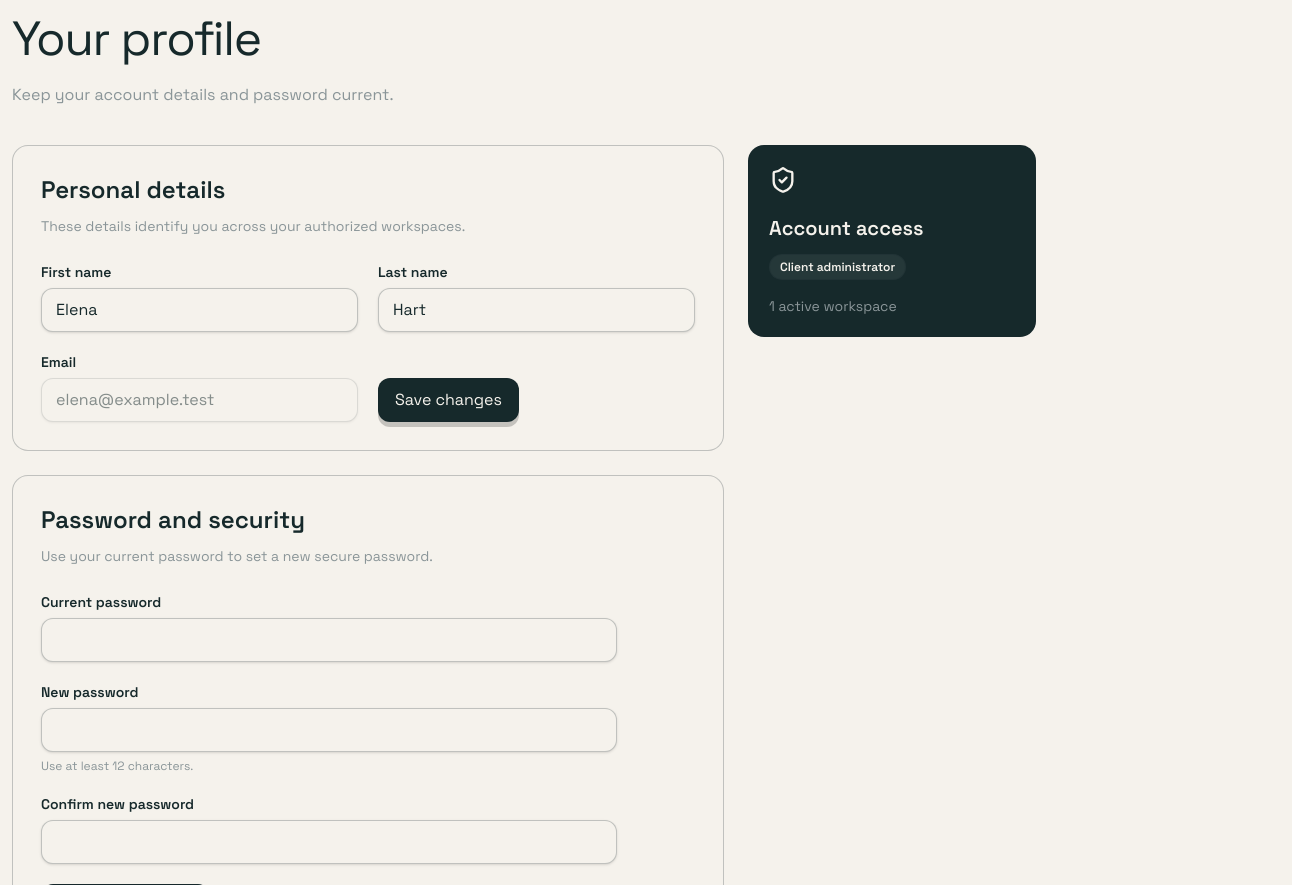
Test: ProfilePage › lets an authenticated platform user update profile details and password
Replace the text in the field labelled "First name" with "Eleni" at coordinates (200, 310), box x1=41 y1=288 x2=358 y2=332
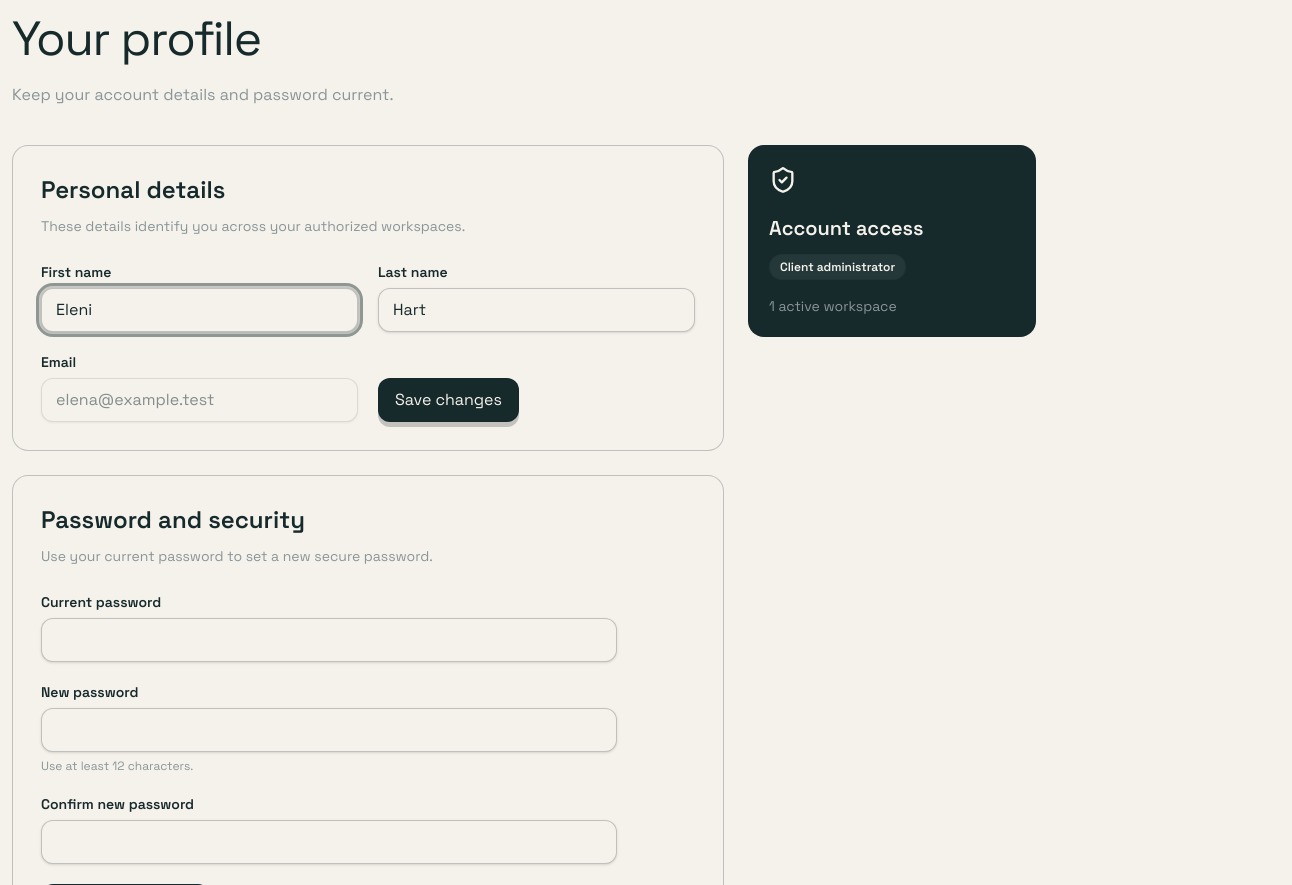
Click the button "Save changes".
click(448, 400)  # box x1=378 y1=378 x2=519 y2=422
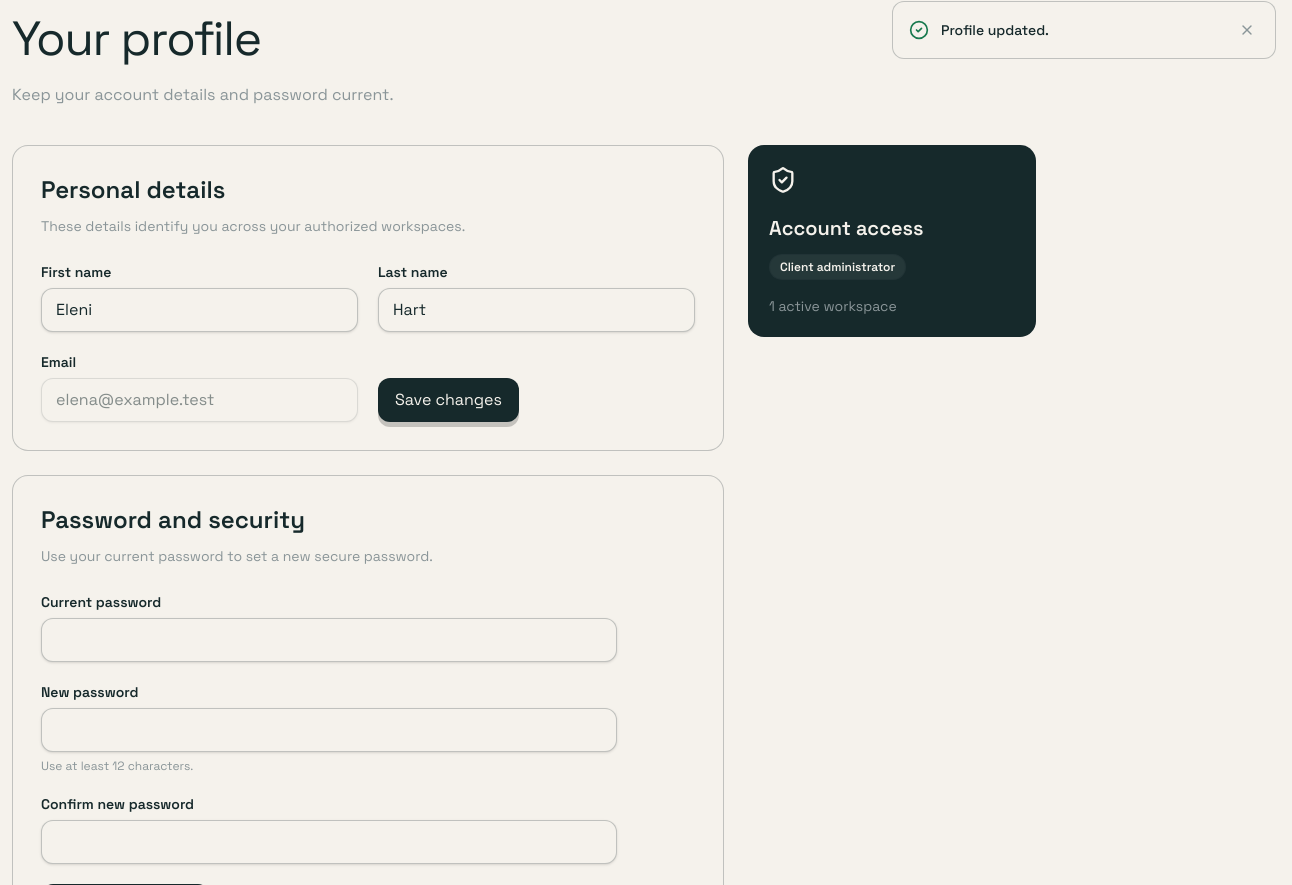
expect the text "Profile updated." is shown: met, box x1=941 y1=21 x2=1049 y2=39
Type "current-password" into the password field labelled "Current password".
click(329, 640); type("current-password")  # box x1=41 y1=618 x2=617 y2=662
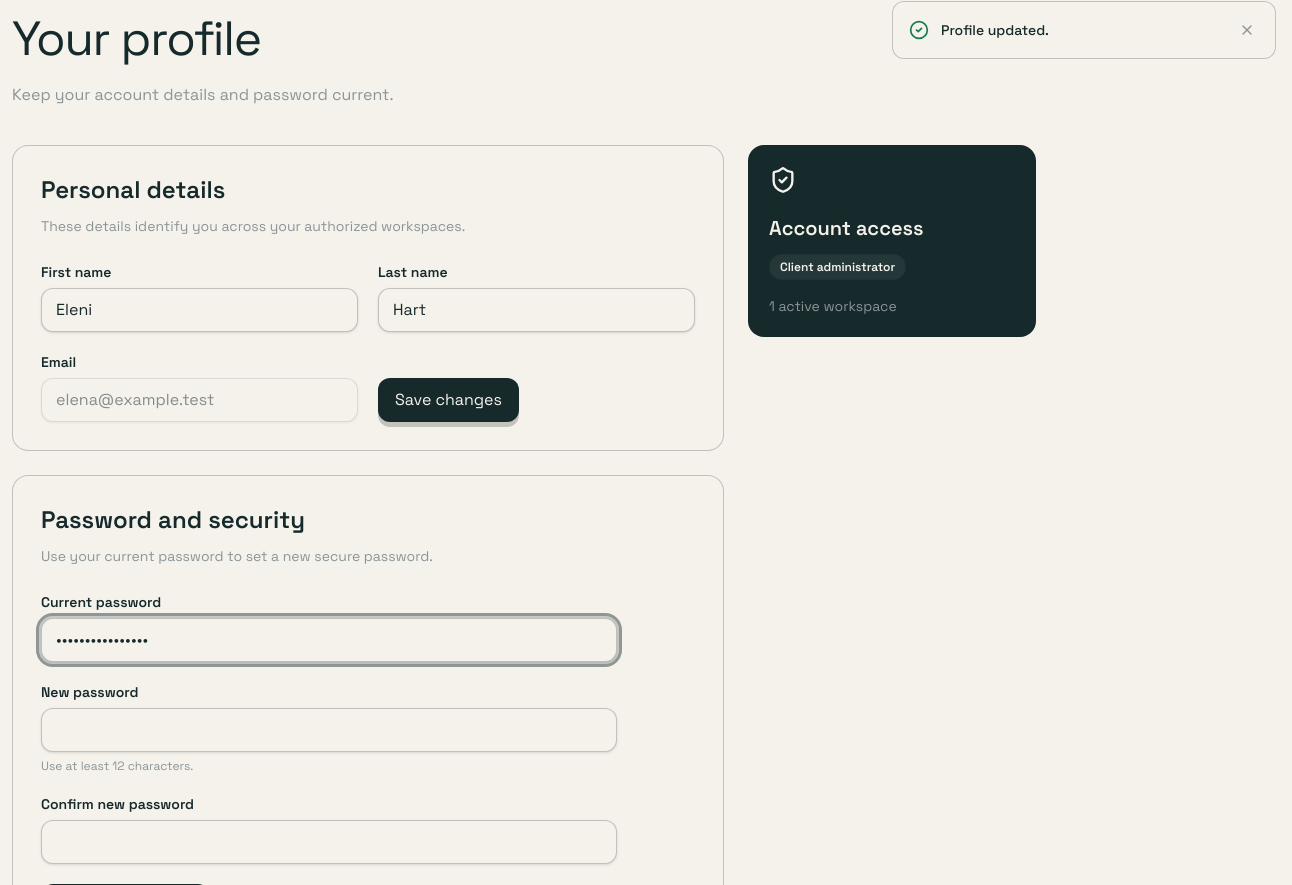
Type "new-secure-password" into the password field labelled "New password".
click(329, 730); type("new-secure-password")  # box x1=41 y1=708 x2=617 y2=752
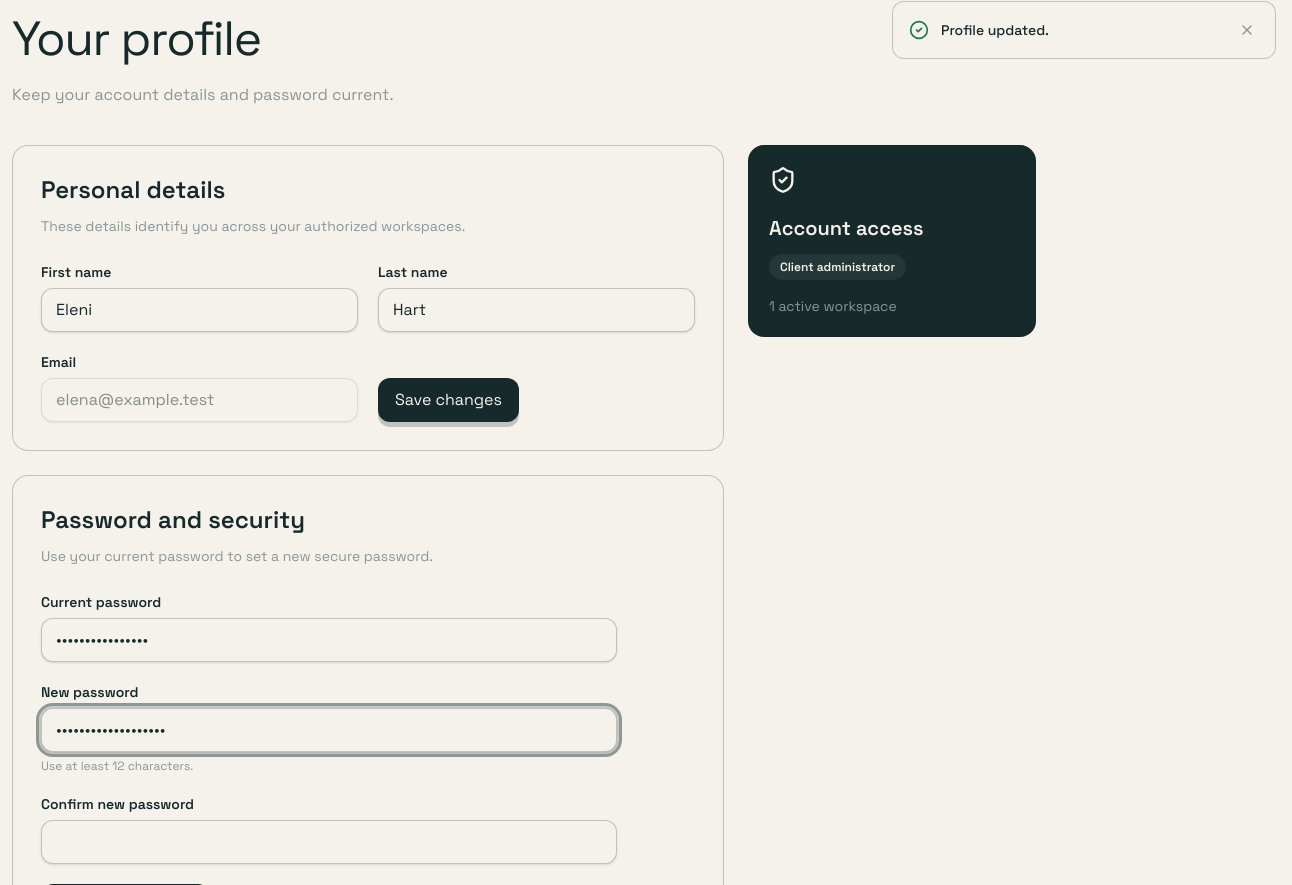
Type "new-secure-password" into the password field labelled "Confirm new password".
click(329, 842); type("new-secure-password")  # box x1=41 y1=820 x2=617 y2=864
(page scrolled)
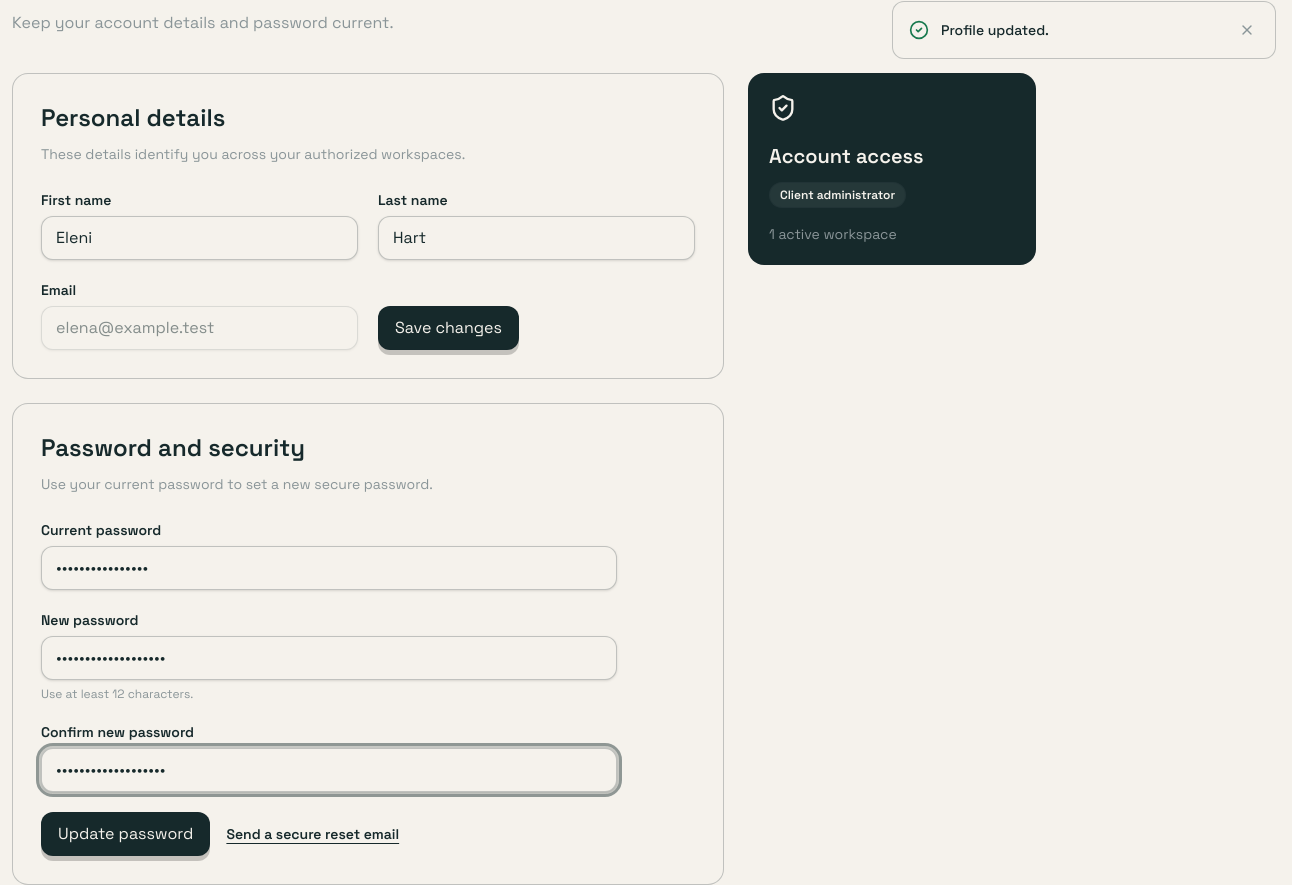
Click the button "Update password".
click(126, 834)  # box x1=41 y1=812 x2=210 y2=856
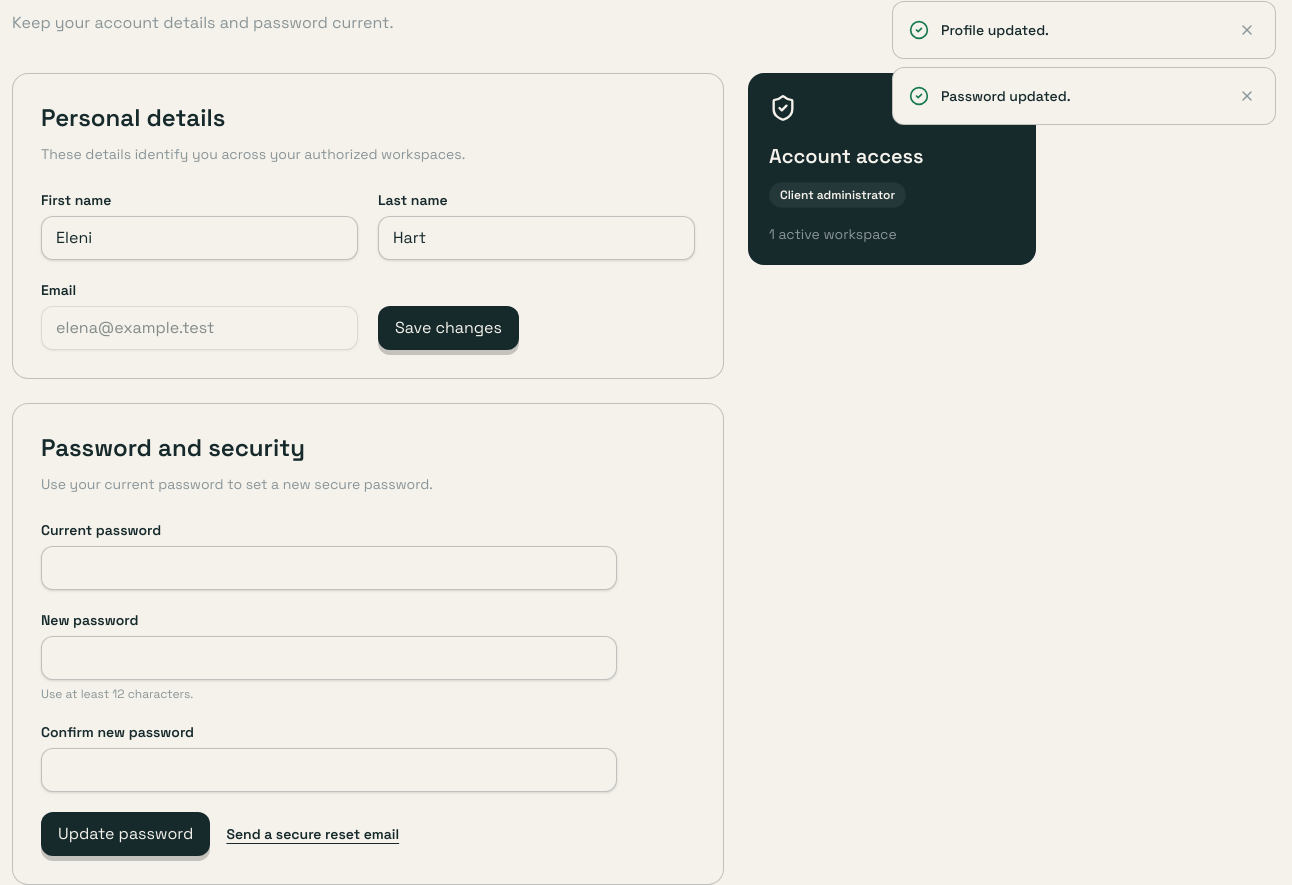
expect the text "Password updated." is shown: met, box x1=941 y1=87 x2=1071 y2=105
